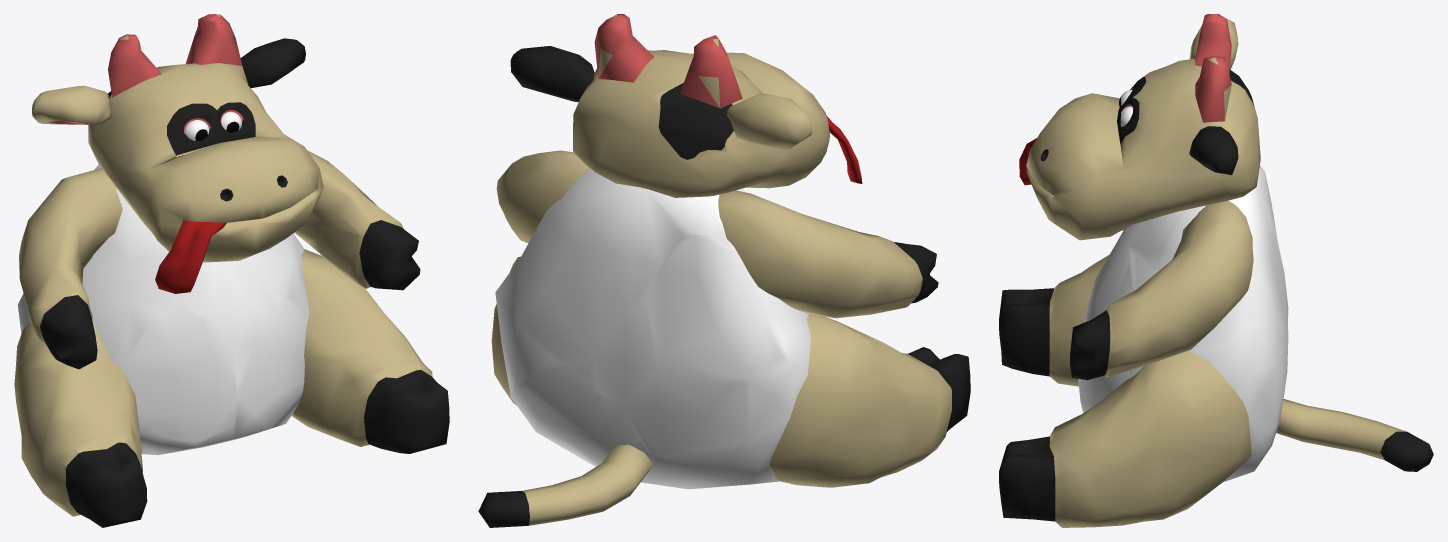
File: cow+toy.fbx
3 views of the same model, side by side, from view 1: azimuth 30°, elevation 25°; view 2: azimuth 150°, elevation 25°; view 3: azimuth 270°, elevation 25° (orthographic). The views are drawn at different scales.
Visible parts, largest first — view 1: Component_4_1, Component_6_1, Component_5_1, Component_10_1, Component_7_1, Component_9_1, Component_3_1, Component_2_1, Component_1_1; view 2: Component_4_1, Component_6_1, Component_10_1, Component_7_1, Component_8_1, Component_9_1, Component_2_1, Component_1_1, Component_5_1, Component_3_1; view 3: Component_6_1, Component_5_1, Component_4_1, Component_9_1, Component_10_1, Component_8_1, Component_1_1.
Part boxes in pixels (left/top/right/bottom): Component_4_1: left=18, top=164, right=309, bottom=455; Component_6_1: left=88, top=14, right=323, bottom=262; Component_5_1: left=292, top=249, right=449, bottom=453; Component_10_1: left=14, top=322, right=147, bottom=527; Component_7_1: left=19, top=168, right=122, bottom=369; Component_9_1: left=294, top=150, right=420, bottom=290; Component_3_1: left=155, top=220, right=226, bottom=293; Component_2_1: left=32, top=85, right=110, bottom=125; Component_1_1: left=240, top=38, right=305, bottom=87; Component_4_1: left=495, top=168, right=810, bottom=489; Component_6_1: left=573, top=14, right=829, bottom=197; Component_10_1: left=770, top=314, right=970, bottom=487; Component_7_1: left=718, top=190, right=938, bottom=318; Component_8_1: left=478, top=444, right=652, bottom=527; Component_9_1: left=496, top=150, right=588, bottom=243; Component_2_1: left=727, top=93, right=812, bottom=150; Component_1_1: left=510, top=46, right=594, bottom=102; Component_5_1: left=491, top=256, right=520, bottom=405; Component_3_1: left=826, top=115, right=862, bottom=183; Component_6_1: left=1026, top=14, right=1260, bottom=240; Component_5_1: left=999, top=350, right=1251, bottom=527; Component_4_1: left=1078, top=165, right=1288, bottom=481; Component_9_1: left=1069, top=200, right=1253, bottom=380; Component_10_1: left=999, top=255, right=1108, bottom=386; Component_8_1: left=1276, top=399, right=1433, bottom=471; Component_1_1: left=1189, top=126, right=1238, bottom=175.
Bounding box in the file's own units: 255 × 257 × 248.
